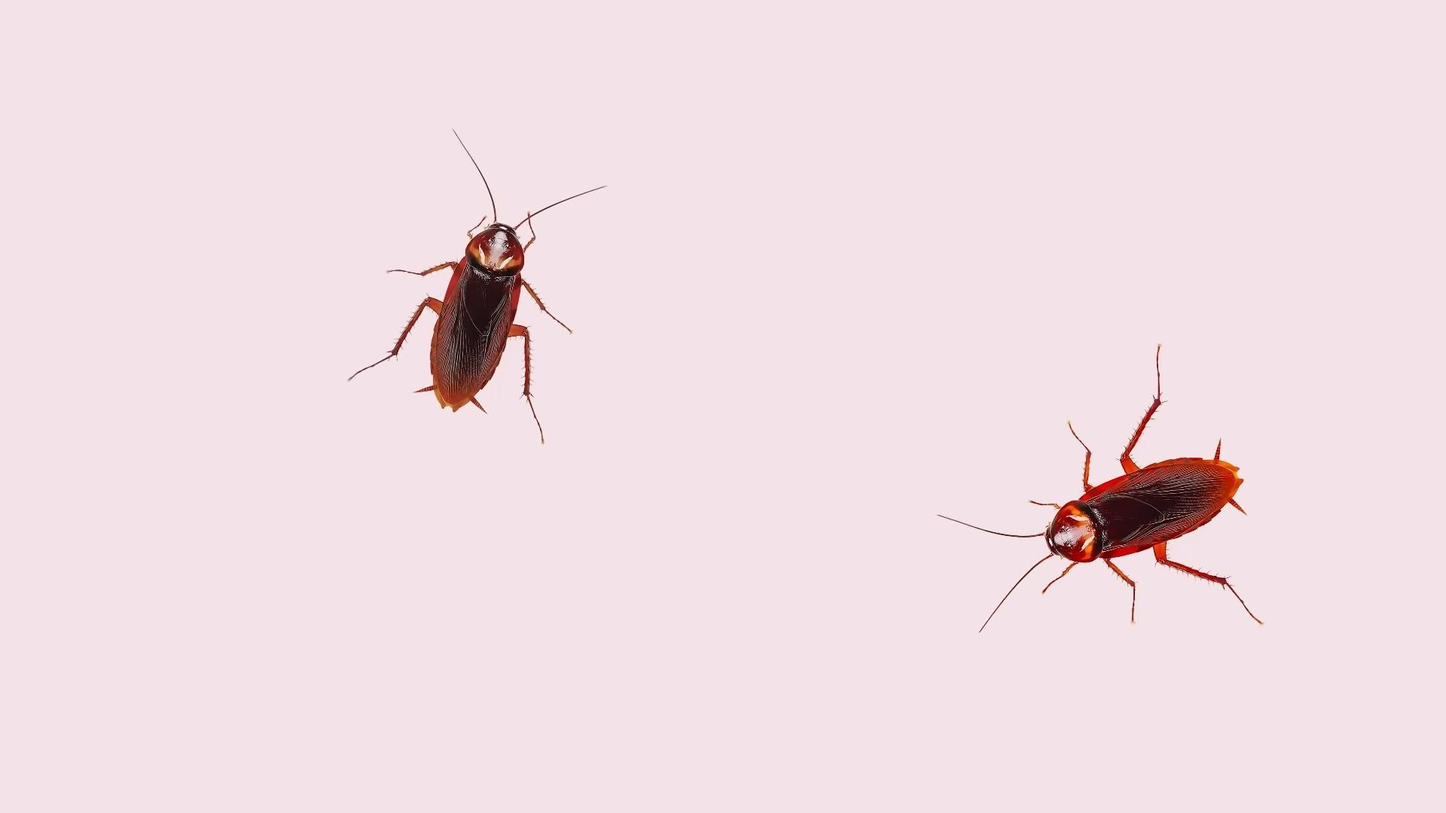cockroach: (934, 336, 1267, 635), (342, 121, 611, 450)
